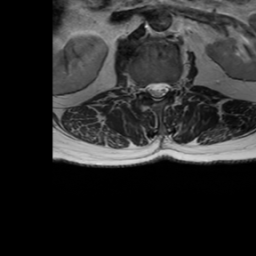CCS_normal: (153, 76, 160, 105)
LFS_normal: (169, 77, 177, 97)
LLS_normal: (160, 77, 169, 97)
RFS_normal: (138, 77, 145, 98)
RLS_normal: (145, 77, 153, 101)
